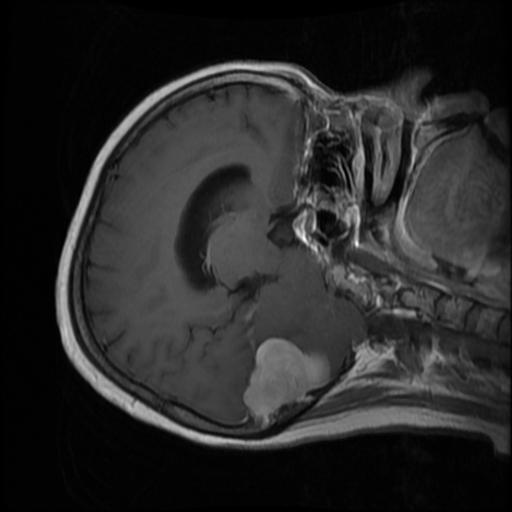meningioma: (240, 337, 331, 426)
